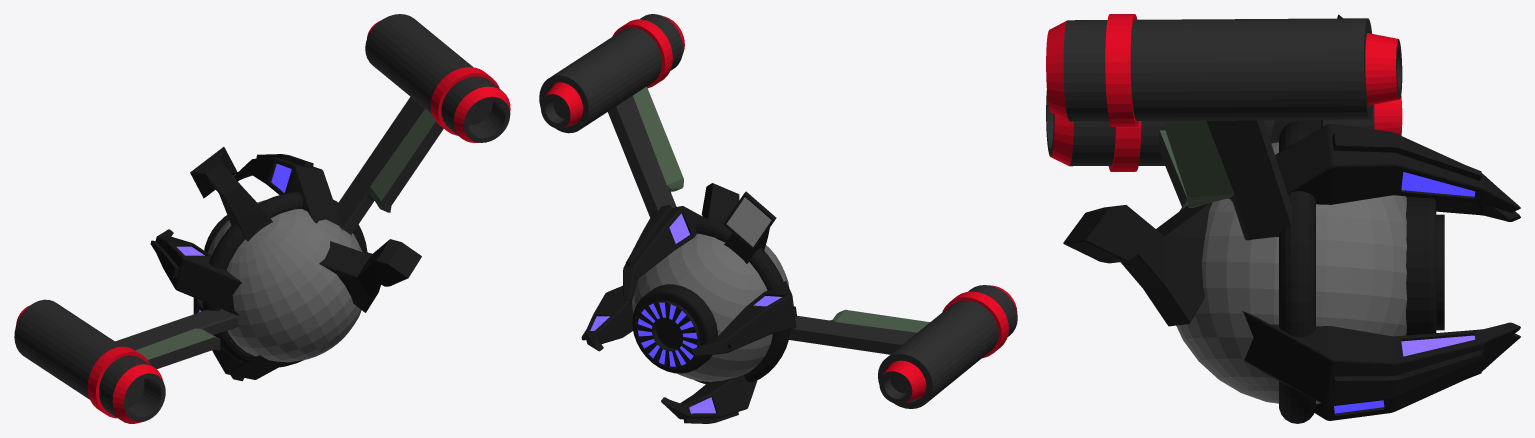
File: Drone.fbx
3 renders of one model, left to right at view 1: azimuth 30°, elevation 25°; view 2: azimuth 150°, elevation 25°; view 3: azimuth 270°, elevation 25°, orthographic. The views are drawn at different scales.
Visible parts, largest first — view 1: Drone.005; view 2: Drone.005; view 3: Drone.005.
Part boxes in pixels (x1=…): Drone.005: x1=14, y1=14, x2=510, y2=423; Drone.005: x1=539, y1=14, x2=1017, y2=423; Drone.005: x1=1046, y1=14, x2=1520, y2=423.
Bounding box in the file's own units: 571 × 429 × 356.
